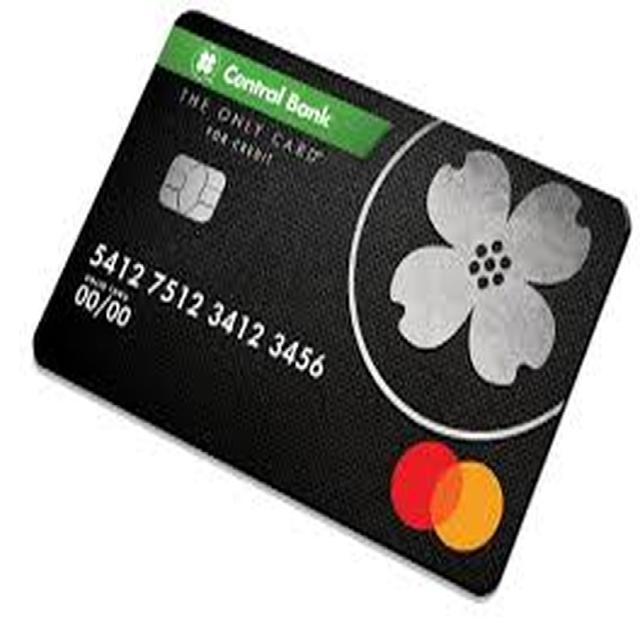card: (22, 25, 604, 606)
